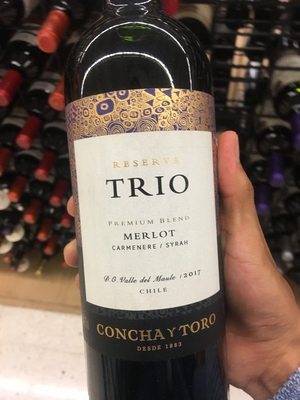trio merlot: (69, 8, 237, 400)
